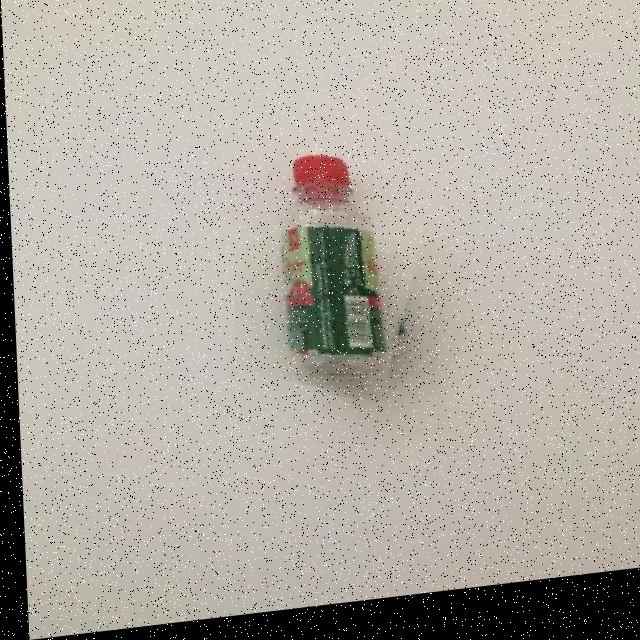litter: (225, 140, 432, 419), (250, 164, 342, 228)
